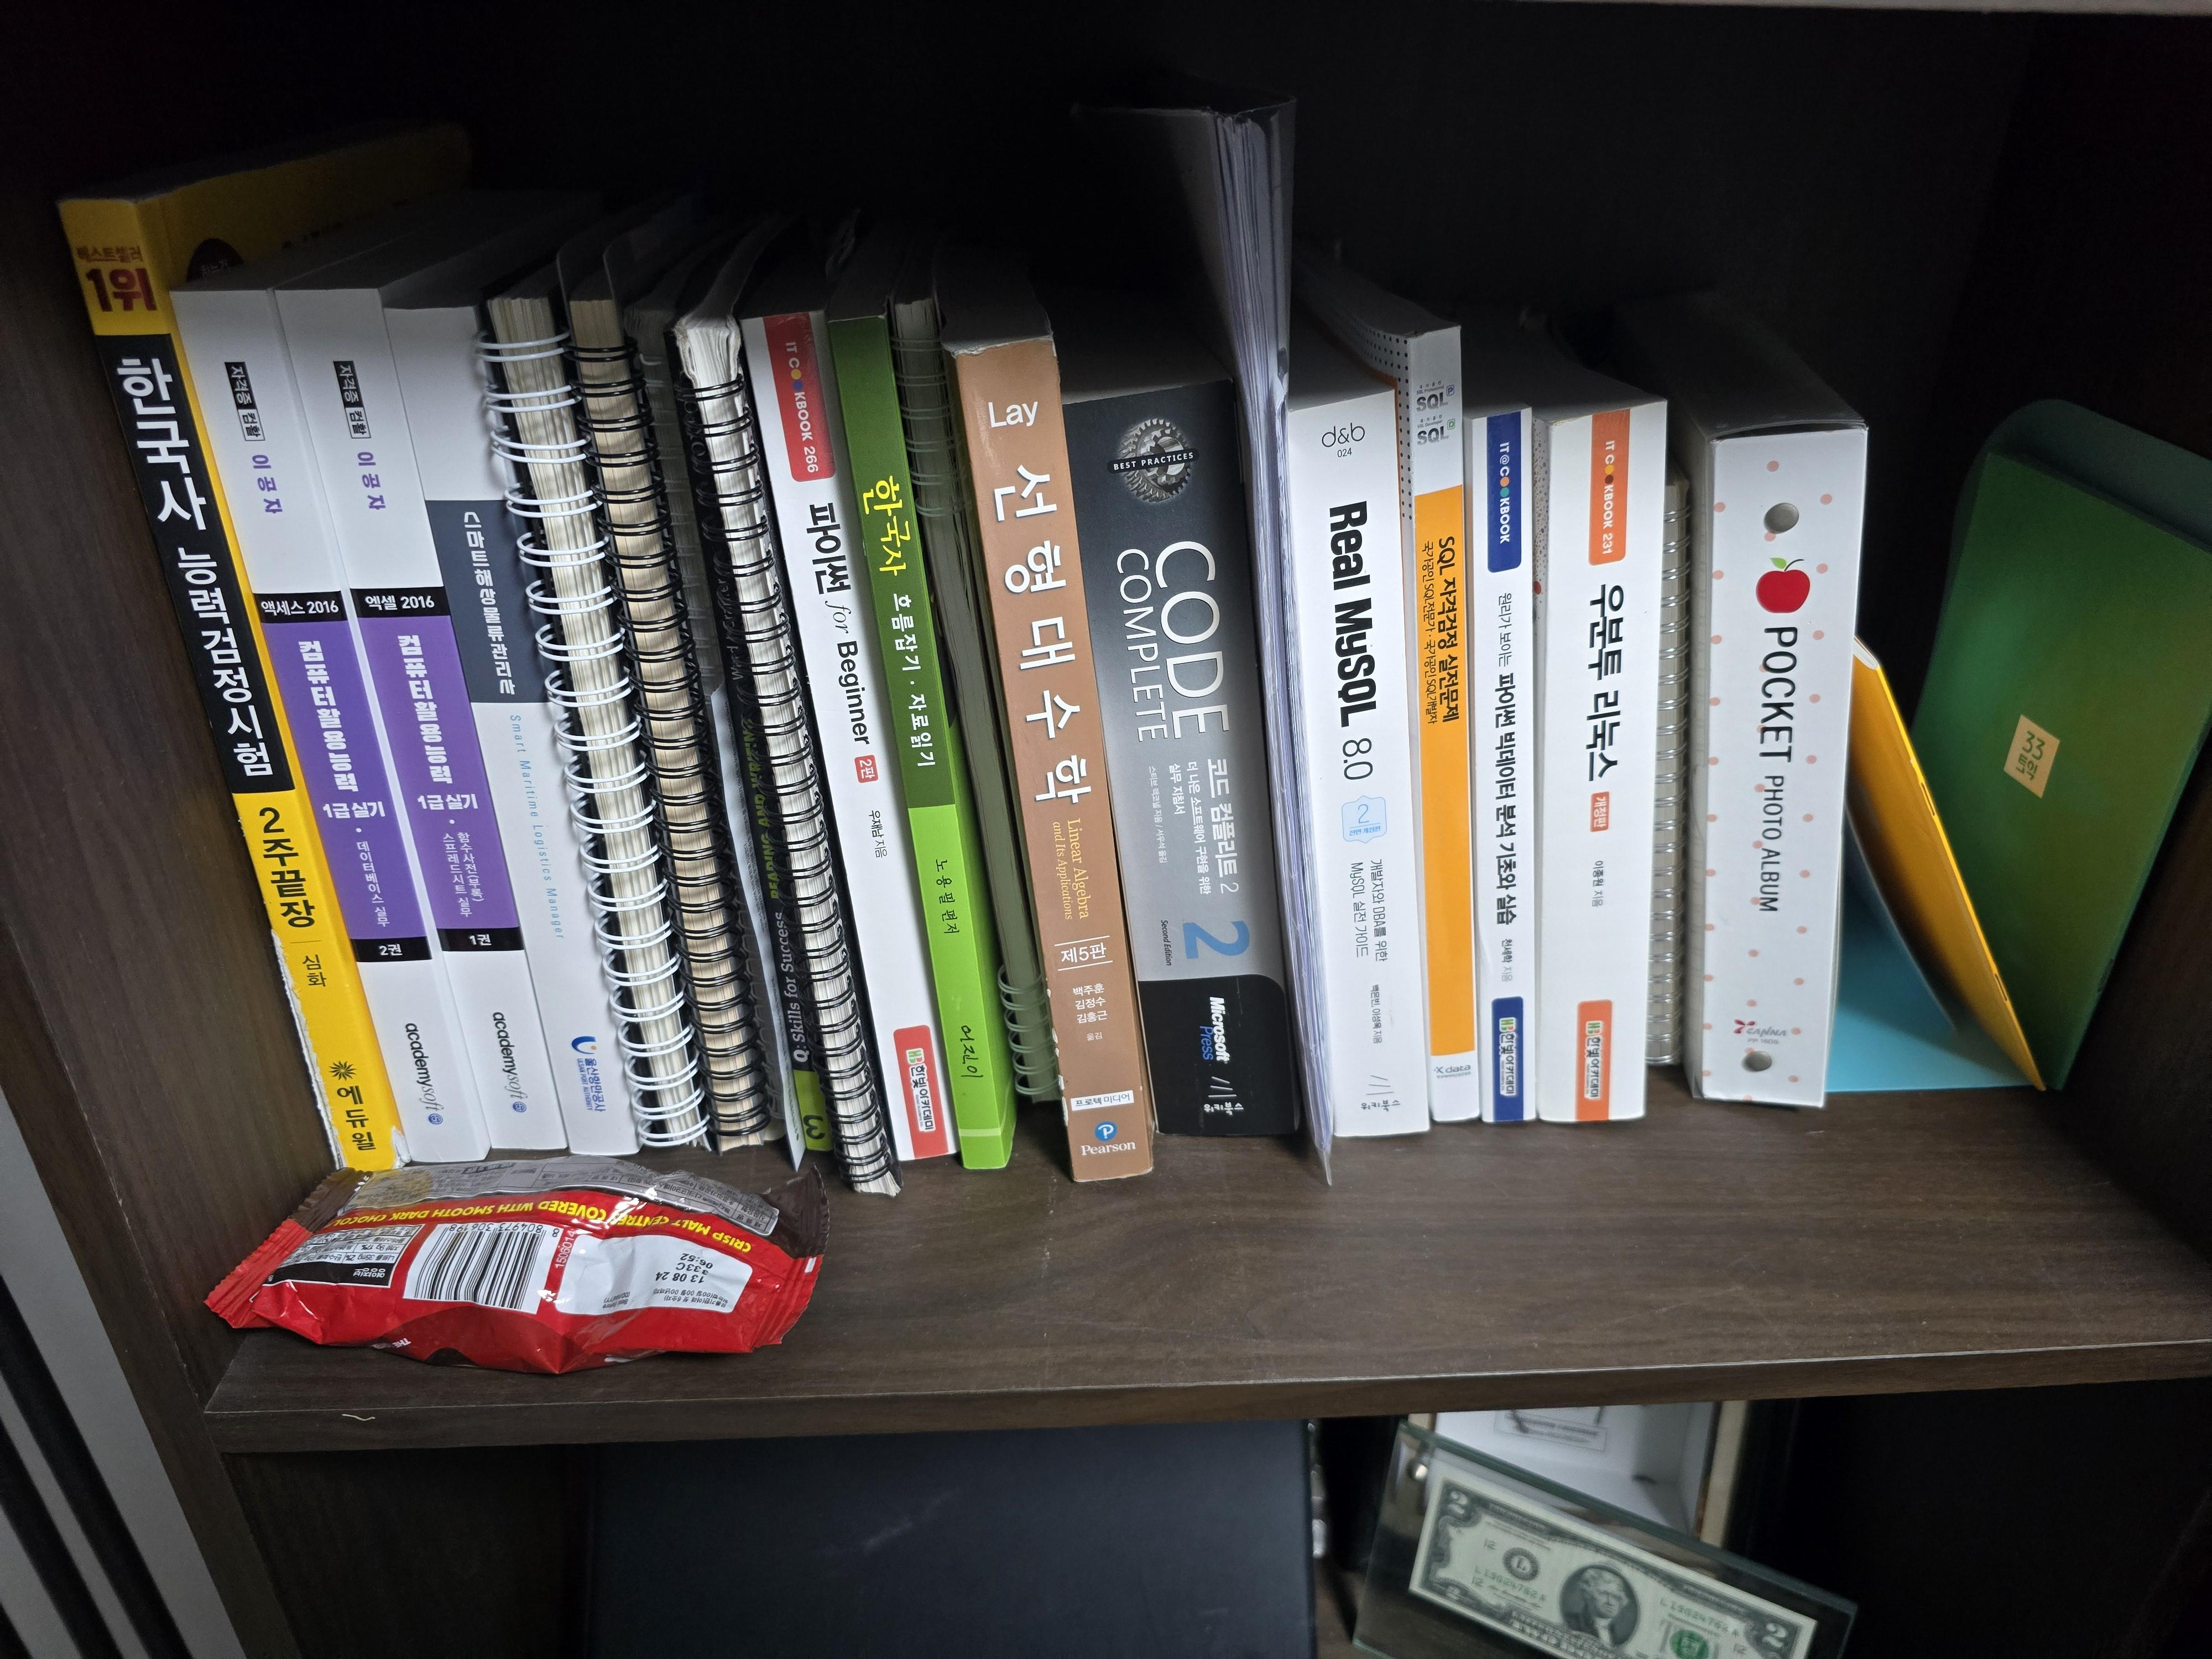book: (54, 117, 475, 1173), (486, 246, 799, 1154), (714, 277, 970, 1169), (1601, 286, 1869, 1110), (1900, 396, 2210, 1093), (1047, 289, 1301, 1138), (934, 246, 1158, 1183), (1294, 254, 1477, 1127)
